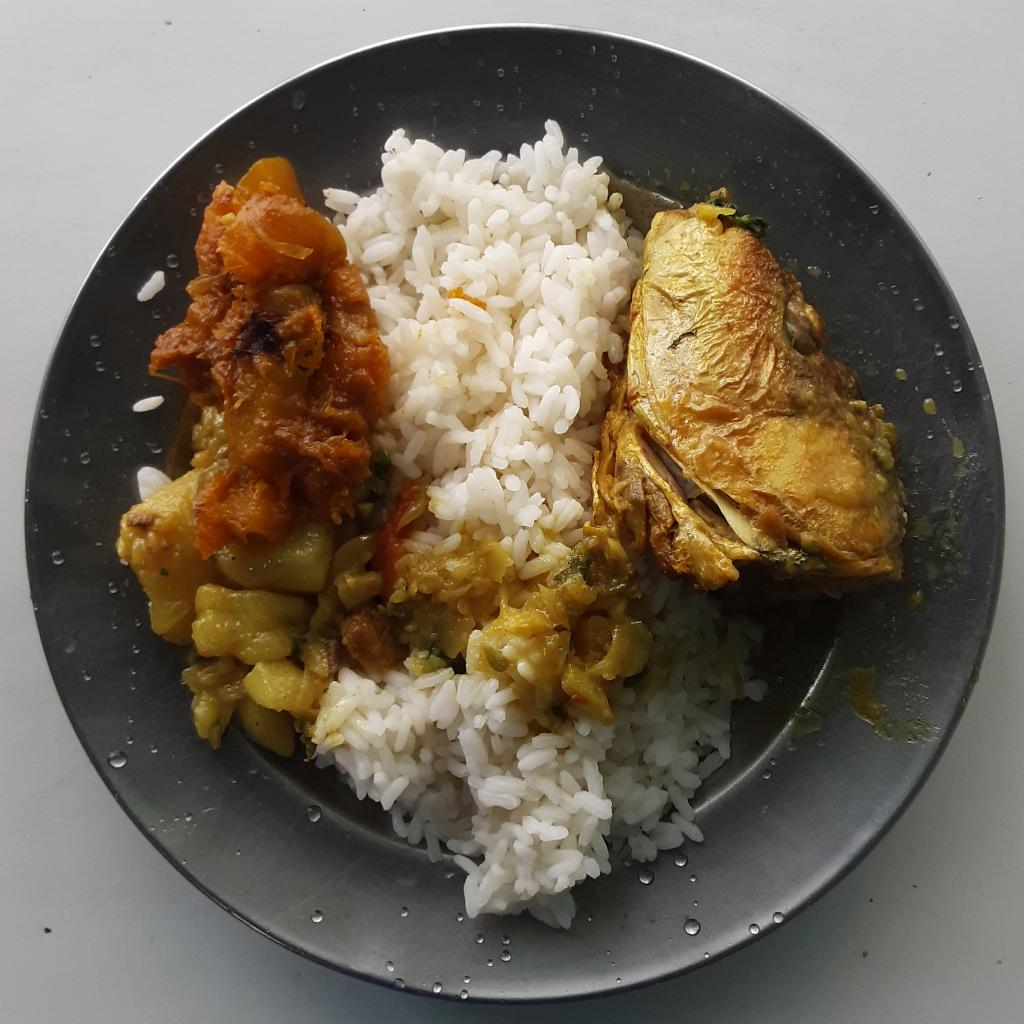fish: (591, 184, 913, 613)
kumra-vaji: (151, 153, 388, 562)
lau: (113, 469, 398, 761)
rice: (304, 120, 766, 931)
